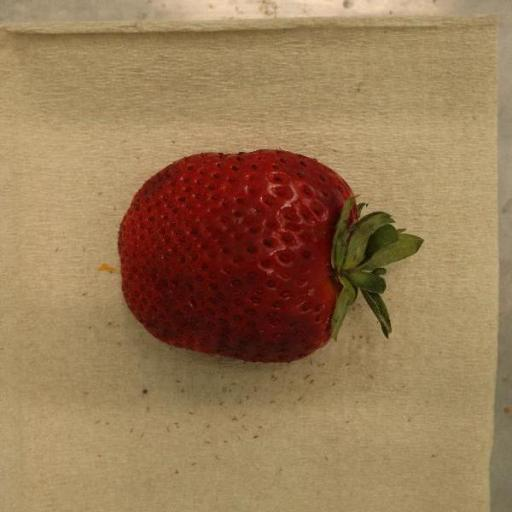Strawberry: (118, 149, 425, 363)
